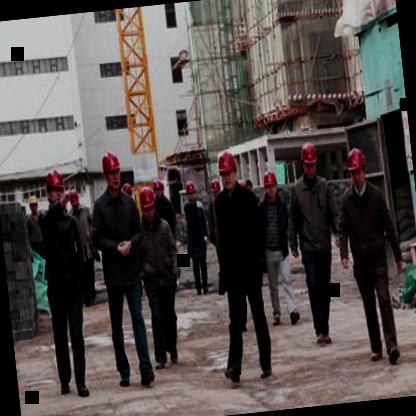helmet: (42, 167, 70, 214), (98, 150, 124, 199), (346, 146, 373, 193), (296, 139, 322, 182), (216, 150, 240, 195), (137, 184, 158, 224), (260, 167, 280, 202), (67, 185, 83, 217), (208, 174, 223, 202), (184, 177, 199, 203), (26, 193, 42, 216), (152, 178, 165, 202)
